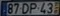3: (46, 2, 53, 14)
4: (38, 2, 46, 14)
7: (13, 2, 19, 15)
8: (7, 2, 13, 14)
D: (20, 2, 29, 14)
P: (28, 2, 38, 14)
